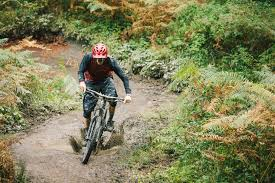helmet: (87, 42, 111, 63)
